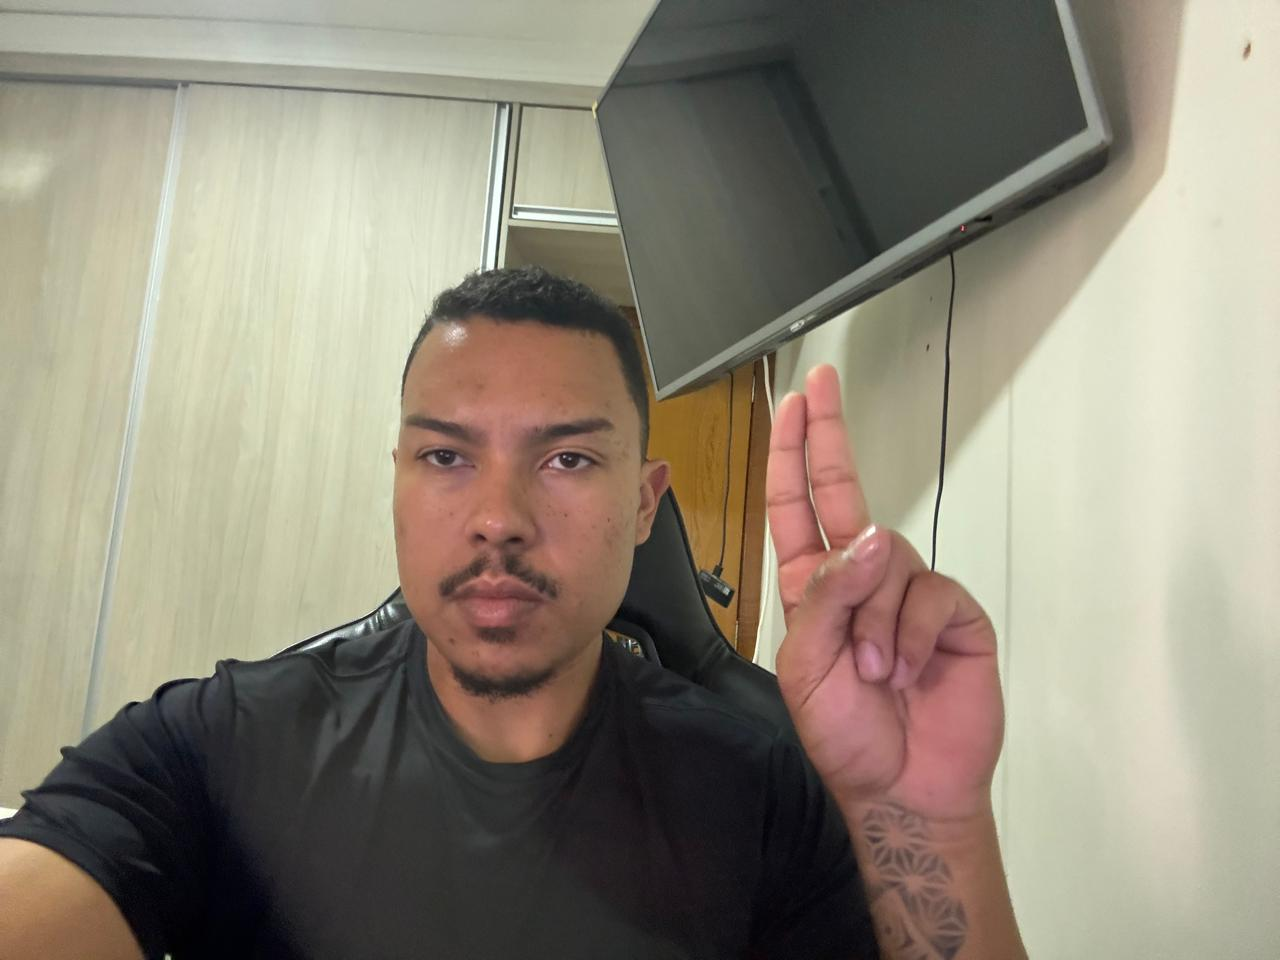u: (742, 354, 1015, 817)
